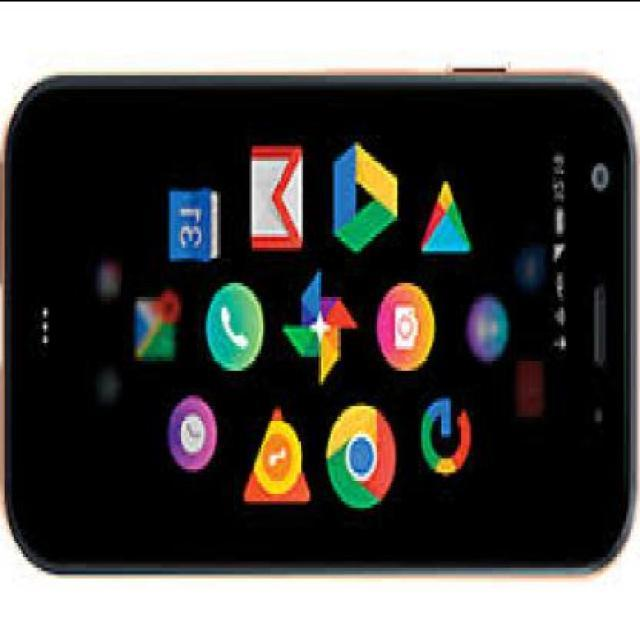phone: (2, 71, 638, 577)
